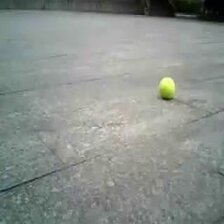tennis: (160, 77, 175, 97)
